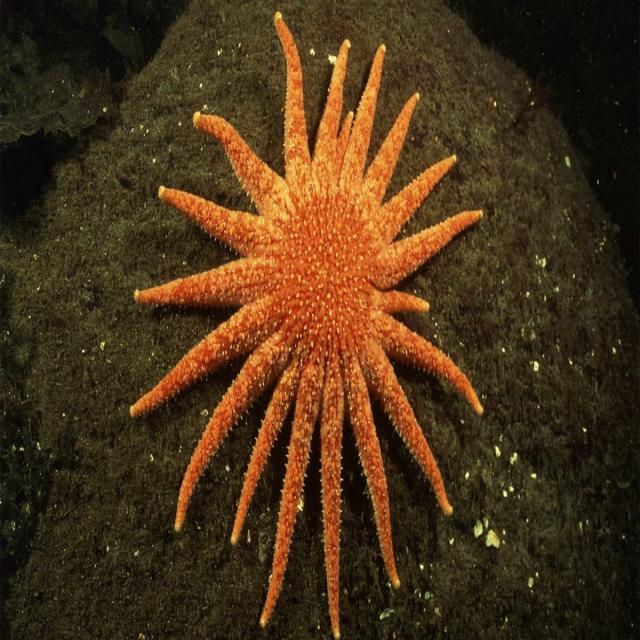starfish: (131, 12, 482, 638)
